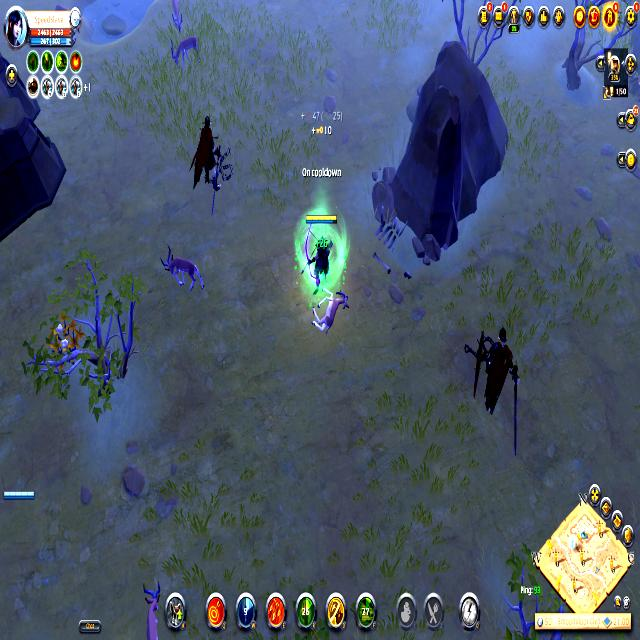mob: (310, 285, 351, 335)
ore: (468, 318, 518, 418), (188, 109, 221, 215), (158, 240, 206, 296), (135, 576, 166, 639), (167, 34, 201, 76), (165, 1, 188, 32)
red: (300, 208, 340, 288), (1, 487, 36, 504)
